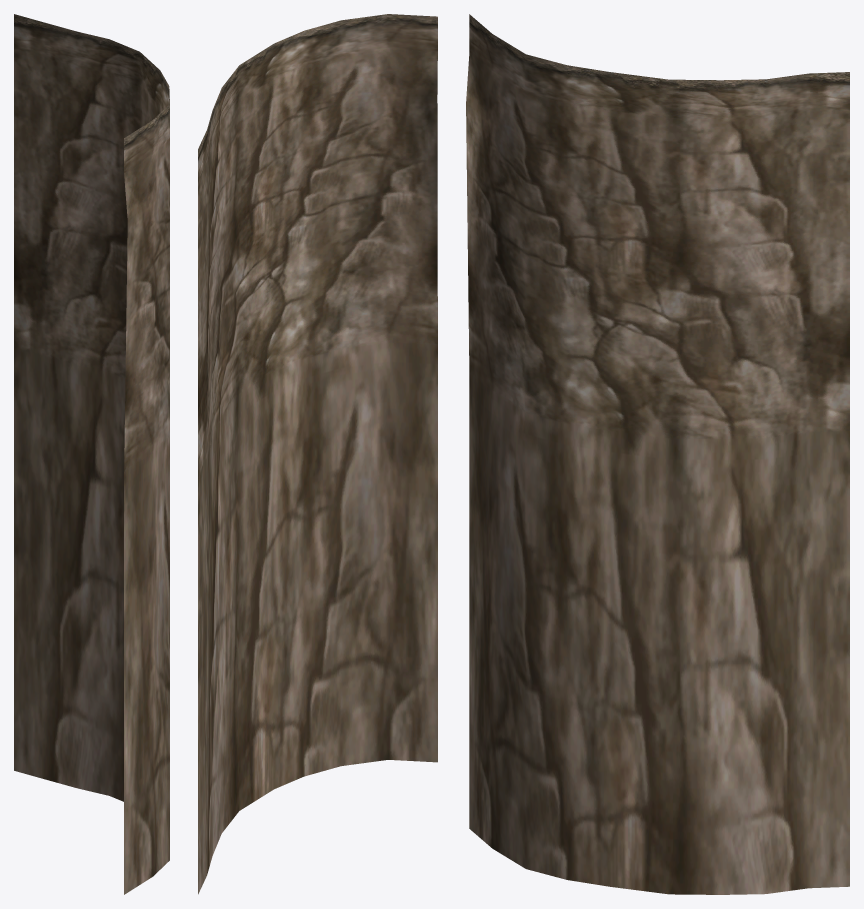
File: OVERHILL_A_01_LINE76.fbx
3 views of the same model, side by side, from view 1: azimuth 30°, elevation 25°; view 2: azimuth 150°, elevation 25°; view 3: azimuth 270°, elevation 25° (orthographic). The views are drawn at different scales.
Visible parts, largest first — view 1: OVERHILL_A_01_LINE76; view 2: OVERHILL_A_01_LINE76; view 3: OVERHILL_A_01_LINE76.
Part boxes in pixels (box(x1,y1,x2,y2)): OVERHILL_A_01_LINE76: box(14, 14, 169, 894); OVERHILL_A_01_LINE76: box(198, 14, 437, 894); OVERHILL_A_01_LINE76: box(466, 14, 849, 894).
Size of the model in its own units: 32102 by 219910 by 91254.
Materials: 2 (2 with a texture image).
